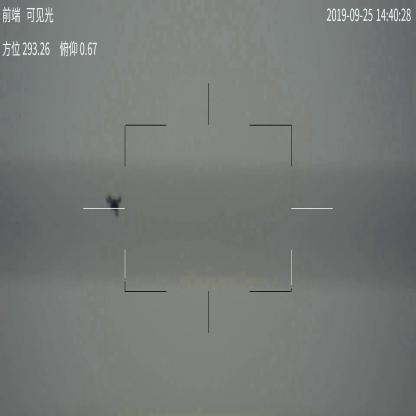uav: (107, 192, 125, 219)
